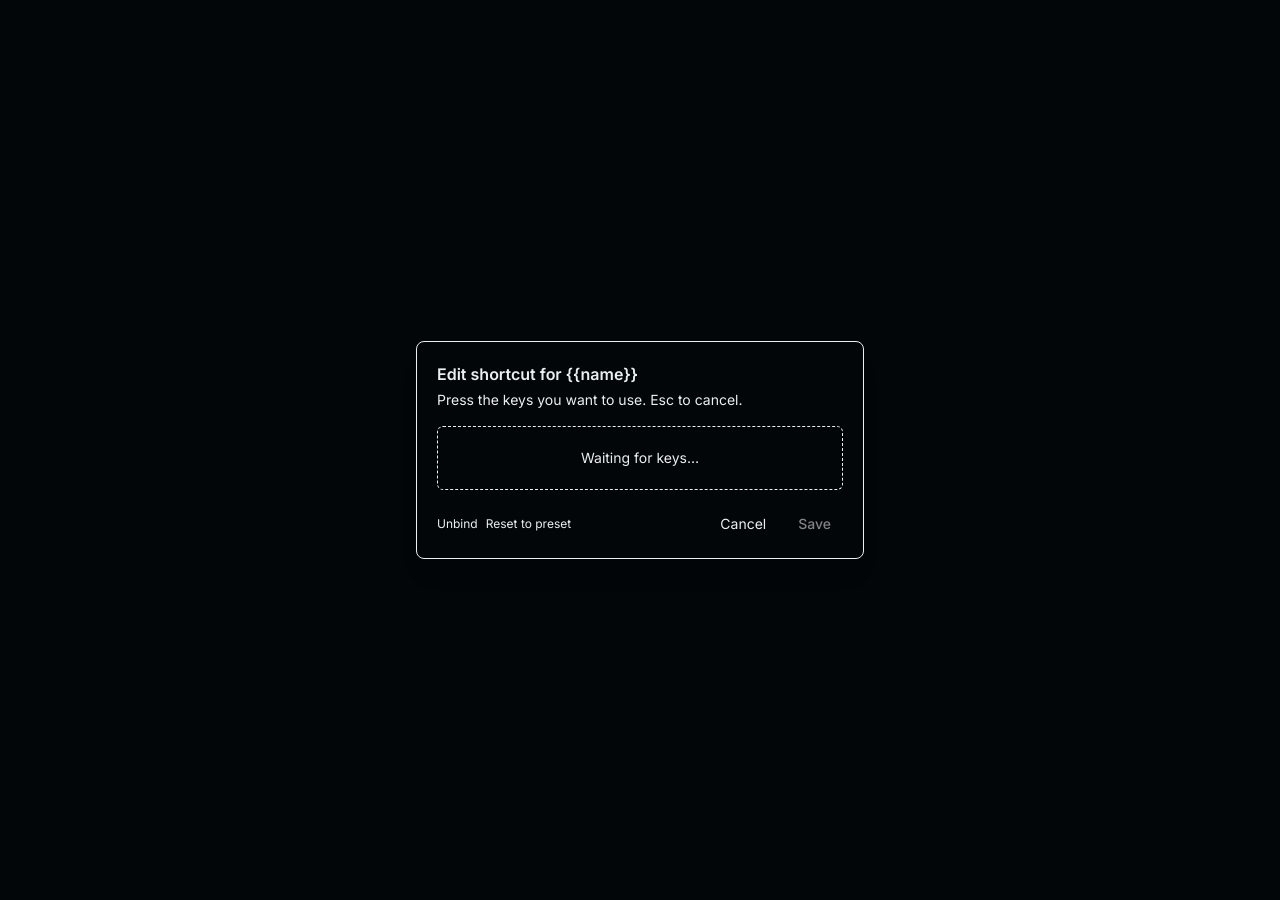
RecordBindingDialog › stringifies non-Error rejections from rebind
Step 1. Press j
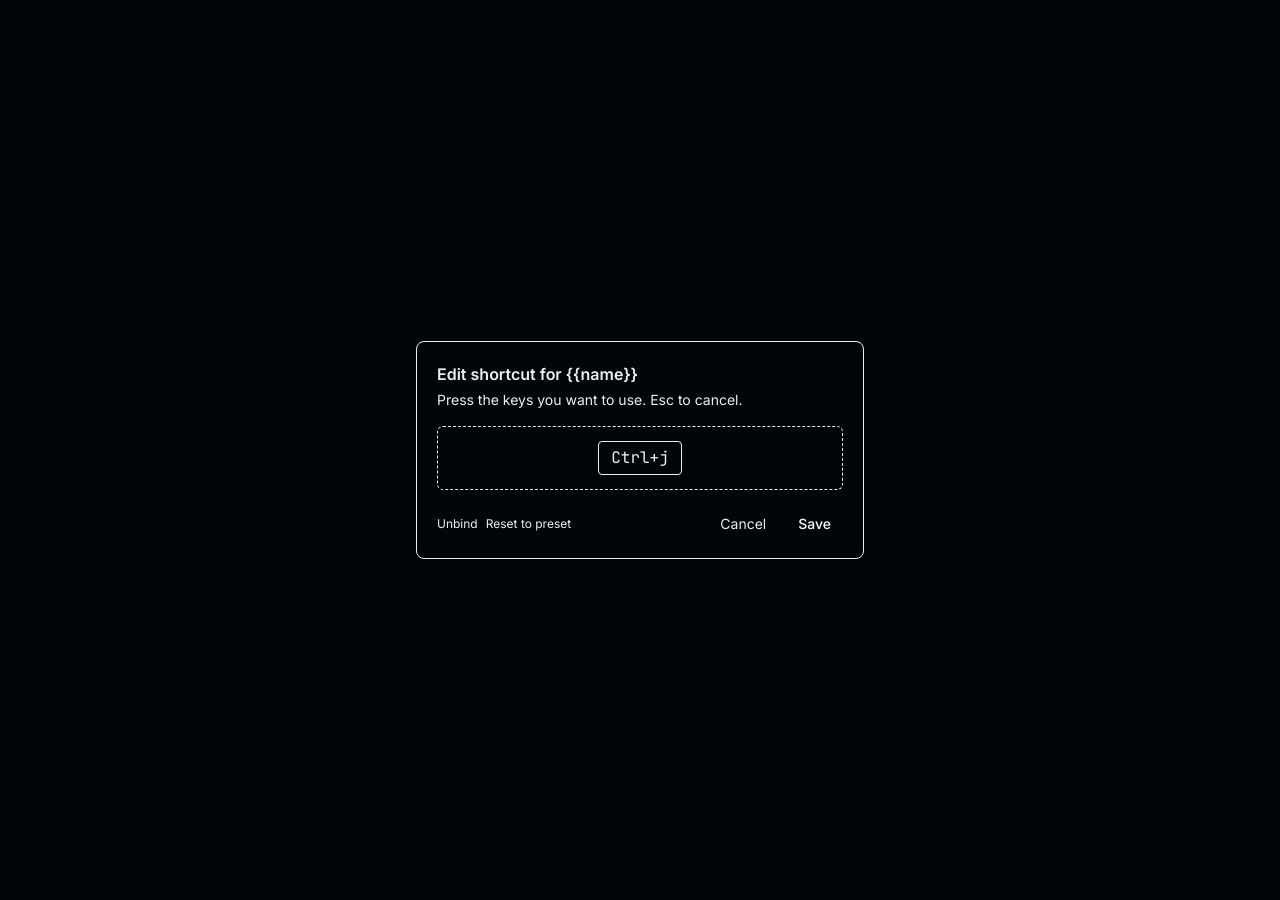
Step 2. Click the button "Save" → (815, 524), box [786, 510, 843, 538]
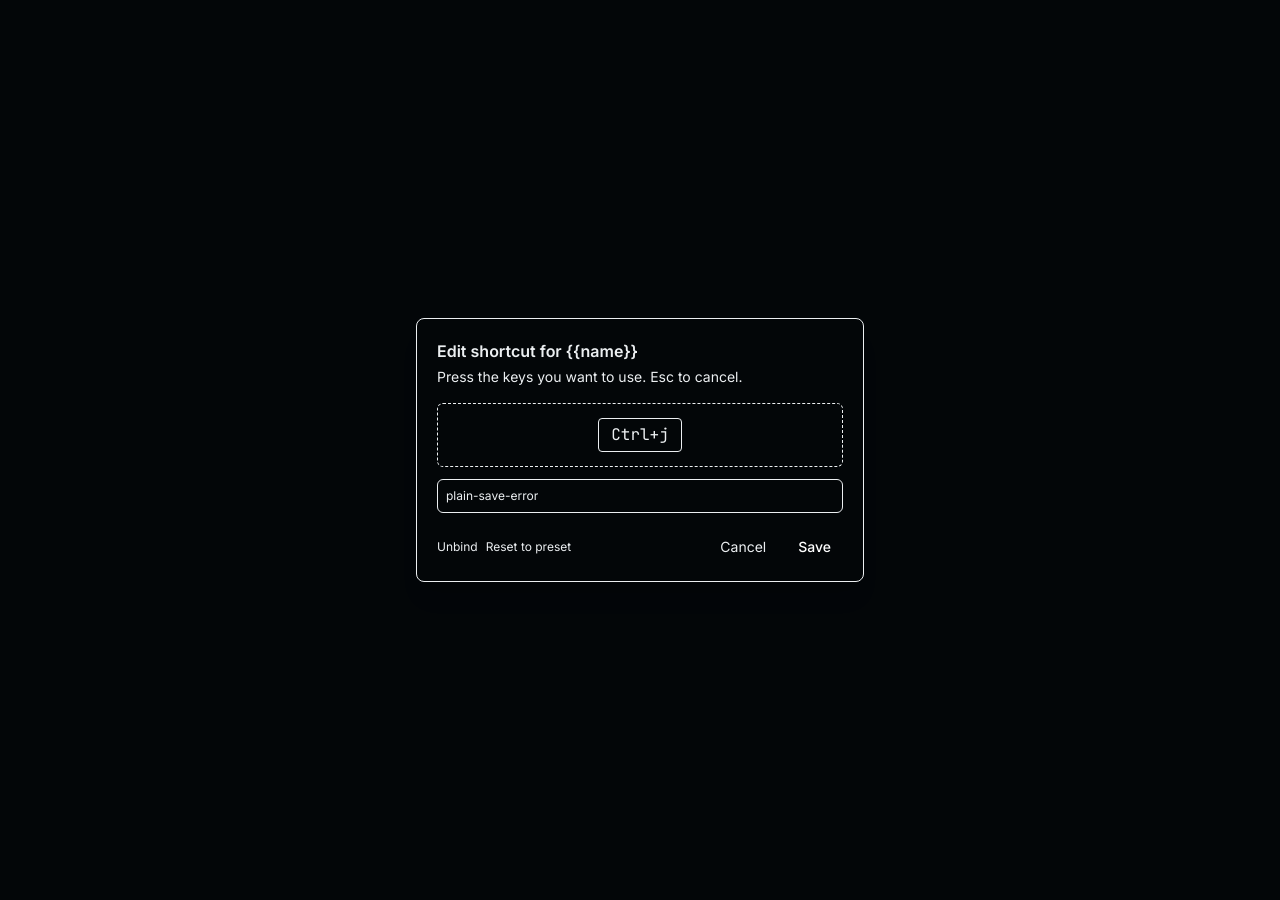
Result: the text "plain-save-error" is shown at [437, 479, 843, 513]
